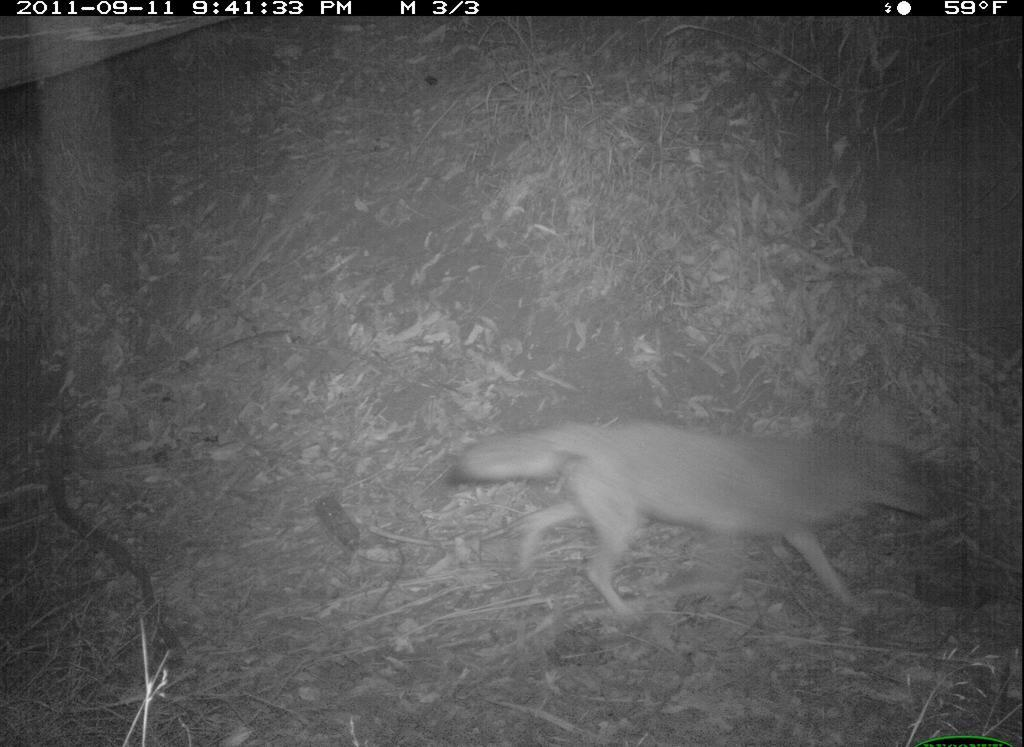coyote: (446, 417, 962, 635)
